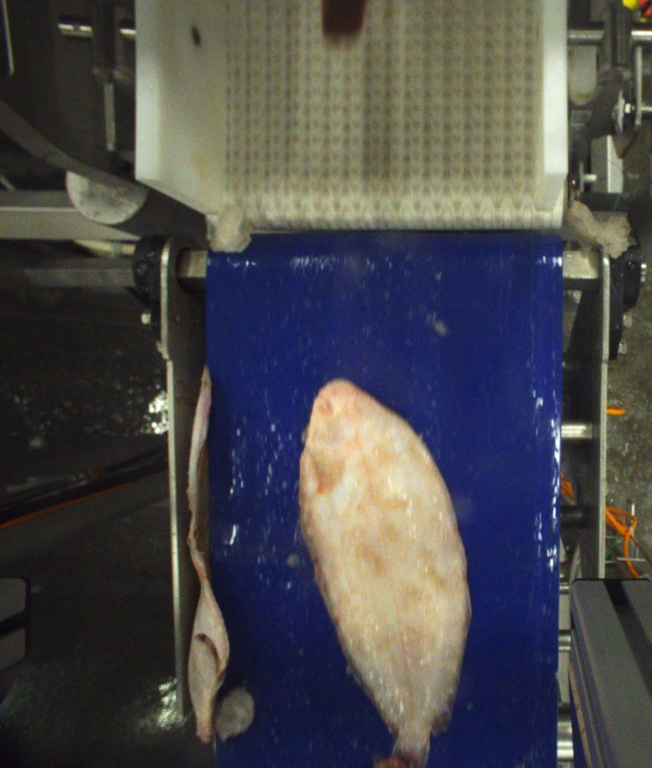SOL: (296, 377, 471, 768)
